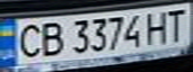3: (87, 16, 112, 53), (66, 17, 90, 55)
4: (124, 11, 148, 47)
7: (106, 13, 127, 51)
B: (36, 19, 66, 58)
C: (9, 20, 45, 60)
H: (142, 8, 172, 45)
T: (160, 6, 190, 43)
